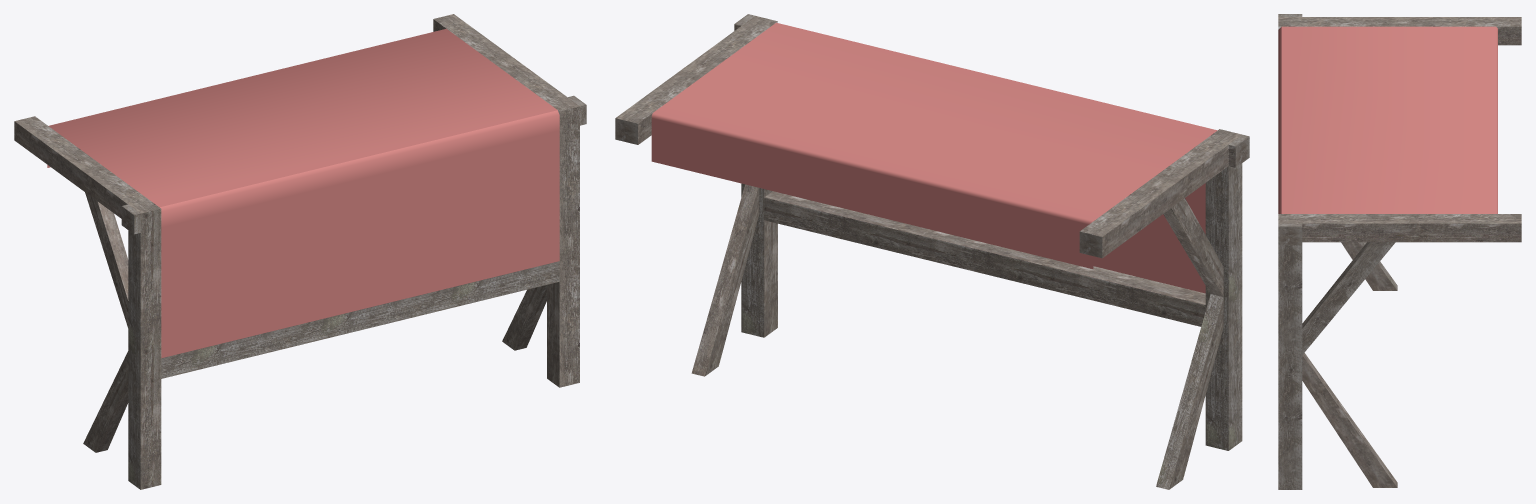
The model's file is Stall.fbx.
The picture shows the model from 3 angles, left to right: view 1: azimuth 30°, elevation 25°; view 2: azimuth 150°, elevation 25°; view 3: azimuth 270°, elevation 25°; orthographic projection. The views are drawn at different scales.
Parts seen in each view (by area): view 1: Model; view 2: Model; view 3: Model.
Part boxes in pixels (x1=…): Model: x1=14, y1=14, x2=586, y2=489; Model: x1=615, y1=14, x2=1249, y2=489; Model: x1=1278, y1=14, x2=1521, y2=489.
Bounding box in the file's own units: 4.18 × 2.44 × 2.02.
